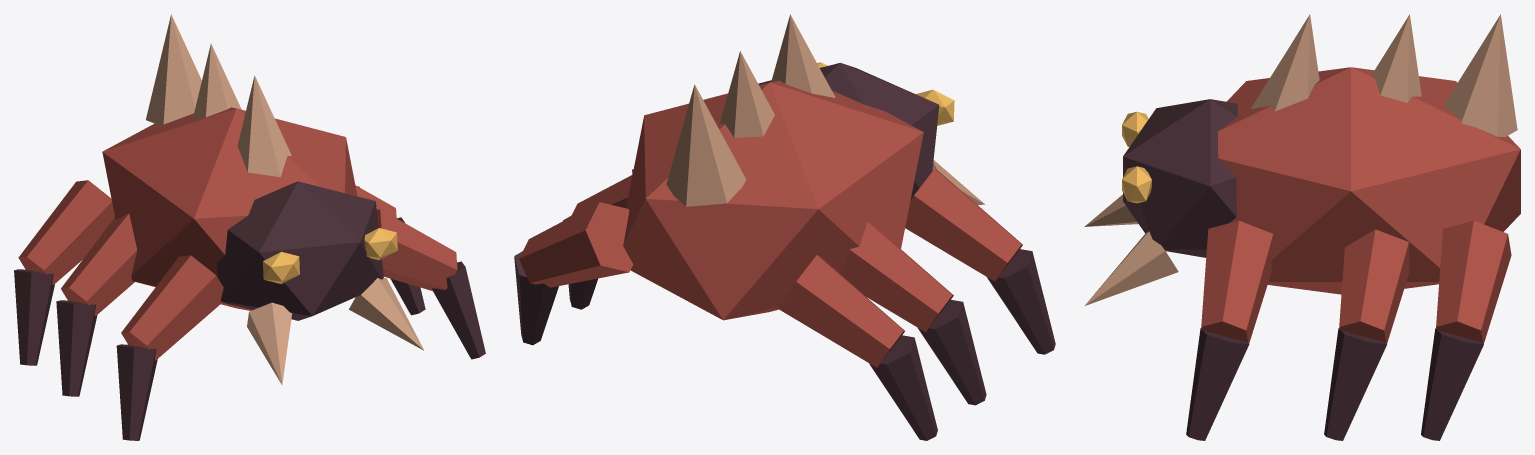
The model's file is swarmer.glb.
3 renders of one model, left to right at view 1: azimuth 30°, elevation 25°; view 2: azimuth 150°, elevation 25°; view 3: azimuth 270°, elevation 25°, orthographic. The views are drawn at different scales.
Visible parts, largest first — view 1: swarmer; view 2: swarmer; view 3: swarmer.
Boxes of the visible parts, bbox=[...] form: swarmer: bbox=[14, 14, 485, 440]; swarmer: bbox=[514, 14, 1055, 440]; swarmer: bbox=[1084, 14, 1520, 440].
Size of the model in its own units: 1.11 by 0.8452 by 1.01.
Materials: 1 (1 with a texture image).
